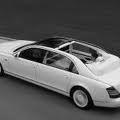car: (1, 2, 120, 120)
